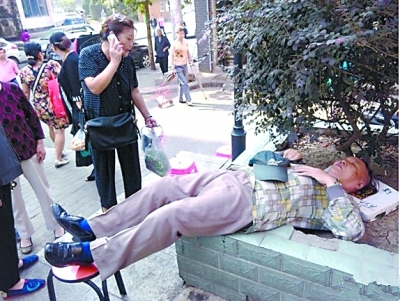10+: (1, 11, 378, 301)
down: (39, 145, 378, 285)
